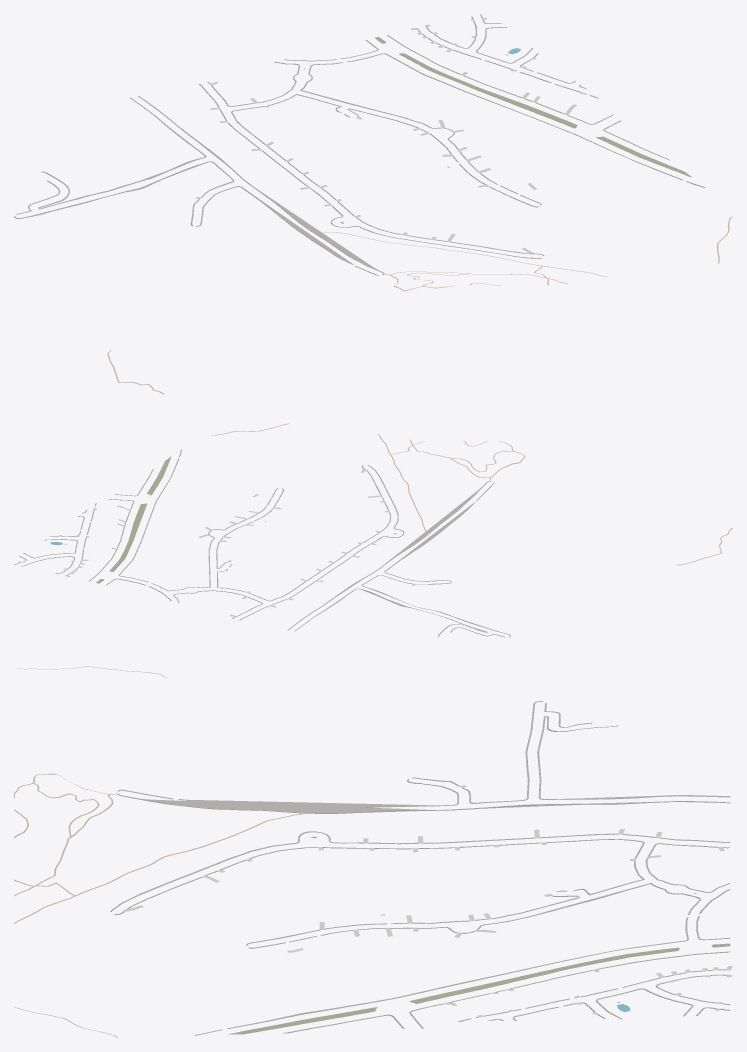
File: ground_r4_c1.glb
3 renders of one model, top to bottom at view 1: azimuth 30°, elevation 25°; view 2: azimuth 150°, elevation 25°; view 3: azimuth 270°, elevation 25°, orthographic. The views are drawn at different scales.
Parts seen in each view (by area): view 1: sidewalks, medians, driveways, paths; view 2: sidewalks, paths, driveways, medians; view 3: sidewalks, medians, paths, driveways.
Part boxes in pixels (left/top/right/bottom): sidewalks: left=14, top=14, right=705, bottom=275; medians: left=375, top=37, right=691, bottom=176; driveways: left=195, top=17, right=584, bottom=254; paths: left=107, top=216, right=732, bottom=394; sidewalks: left=14, top=449, right=510, bottom=637; paths: left=211, top=423, right=732, bottom=565; driveways: left=18, top=468, right=415, bottom=617; medians: left=96, top=456, right=171, bottom=583; sidewalks: left=110, top=701, right=730, bottom=1035; medians: left=228, top=943, right=730, bottom=1034; paths: left=14, top=666, right=302, bottom=1037; driveways: left=124, top=785, right=732, bottom=1017.
Size of the model in its own units: 987 by 65.77 by 790.
